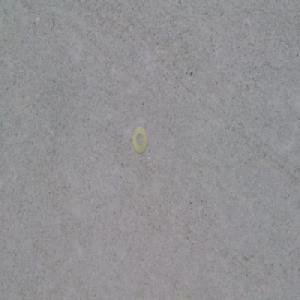Washer: (133, 125, 149, 155)
